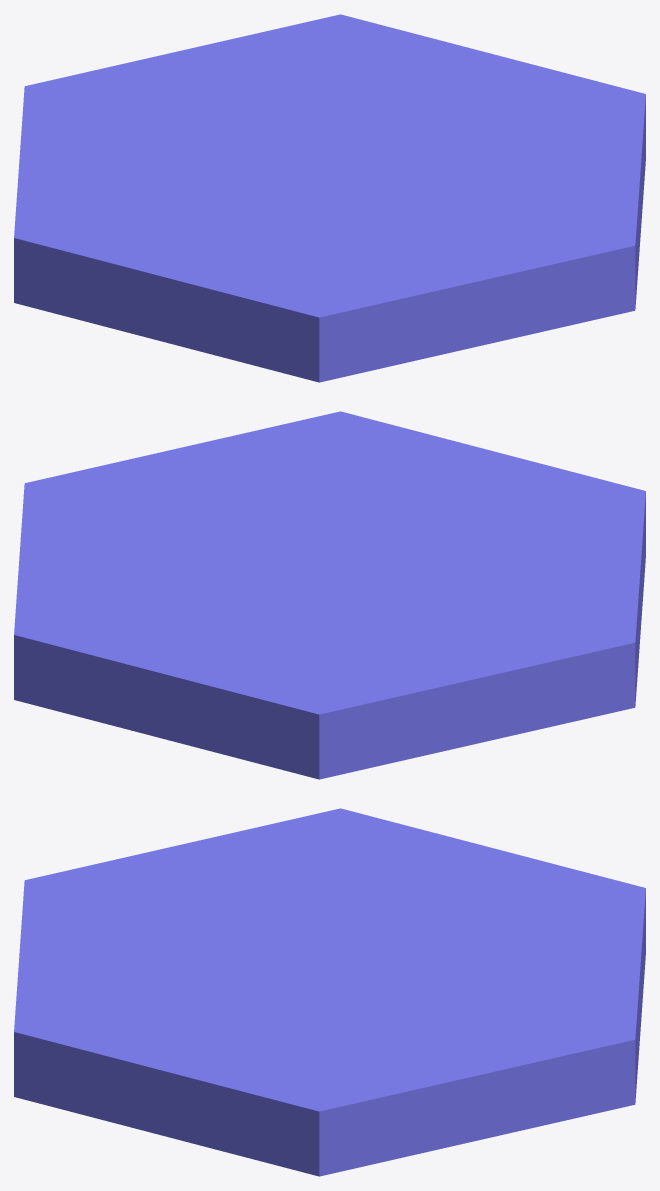
The model's file is HEX.obj.
3 renders of one model, top to bottom at view 1: azimuth 30°, elevation 25°; view 2: azimuth 150°, elevation 25°; view 3: azimuth 270°, elevation 25°, orthographic.
Parts seen in each view (by area): view 1: Root|hex_VISUALIZE_(Default)|Merged_Parts|Part; view 2: Root|hex_VISUALIZE_(Default)|Merged_Parts|Part; view 3: Root|hex_VISUALIZE_(Default)|Merged_Parts|Part.
Boxes of the visible parts, x1=… form: Root|hex_VISUALIZE_(Default)|Merged_Parts|Part: x1=14, y1=14, x2=645, y2=382; Root|hex_VISUALIZE_(Default)|Merged_Parts|Part: x1=14, y1=411, x2=645, y2=779; Root|hex_VISUALIZE_(Default)|Merged_Parts|Part: x1=14, y1=808, x2=645, y2=1176.
Bounding box in the file's own units: 0.1 × 0.01 × 0.0881.
